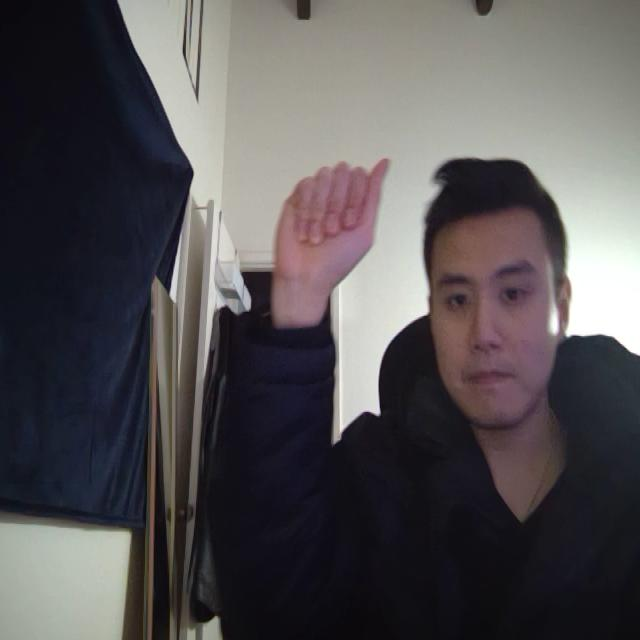A: (255, 122, 408, 322)
